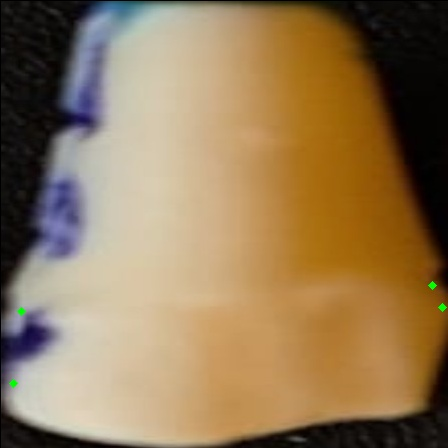coin_1: (21, 311, 41, 331)
coin_2: (13, 383, 33, 403)
coin_3: (432, 285, 448, 305)
coin_4: (442, 307, 448, 327)
